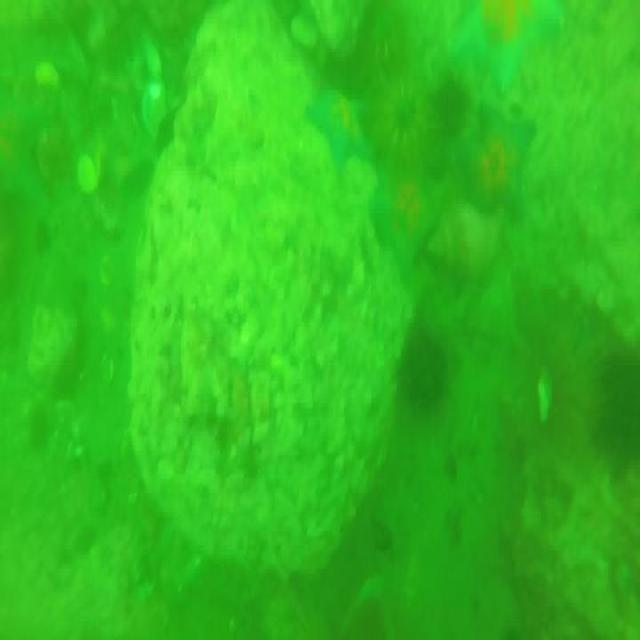echinus: (593, 343, 640, 477), (398, 327, 447, 413)
scallop: (142, 82, 166, 149), (77, 147, 103, 191)
starfish: (461, 0, 567, 92), (465, 101, 534, 218), (306, 84, 378, 166)
